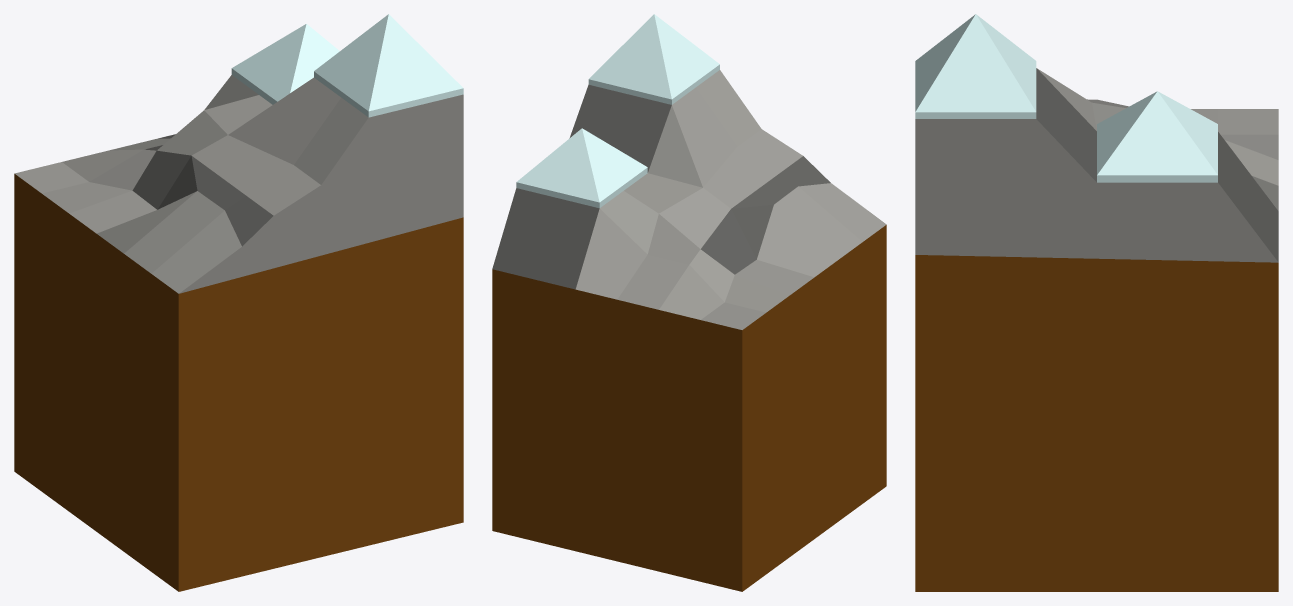
The model's file is MOUNTAIN.glb.
3 views of the same model, side by side, from view 1: azimuth 30°, elevation 25°; view 2: azimuth 150°, elevation 25°; view 3: azimuth 270°, elevation 25° (orthographic). The views are drawn at different scales.
Parts seen in each view (by area): view 1: Mountain_Imperius; view 2: Mountain_Imperius; view 3: Mountain_Imperius.
Part boxes in pixels (x1,y1,x2,y2): Mountain_Imperius: (14,14,463,591); Mountain_Imperius: (492,14,886,591); Mountain_Imperius: (915,14,1278,591).
Size of the model in its own units: 4 by 6.71 by 4.
1 material, 1 textured.
